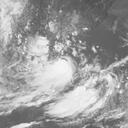cyclone: (26, 36, 101, 112)
